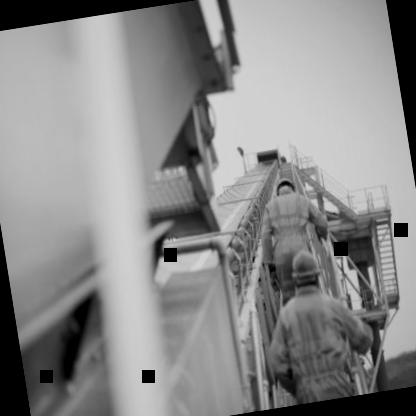helmet: (288, 242, 324, 298), (270, 172, 296, 200)
